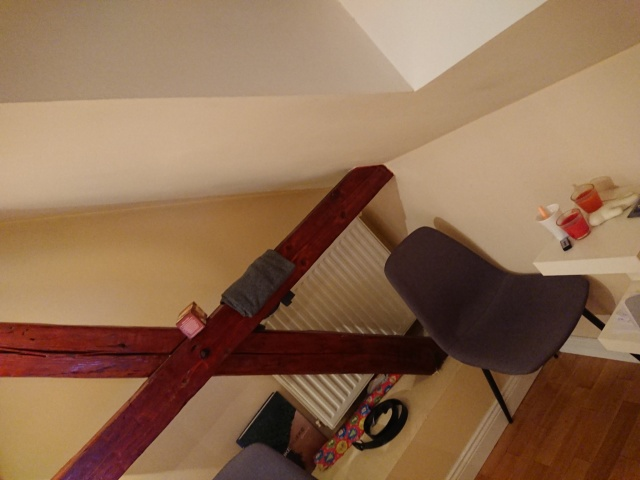Franck Apple Cinnamon Tea 60g: (173, 299, 209, 342)
